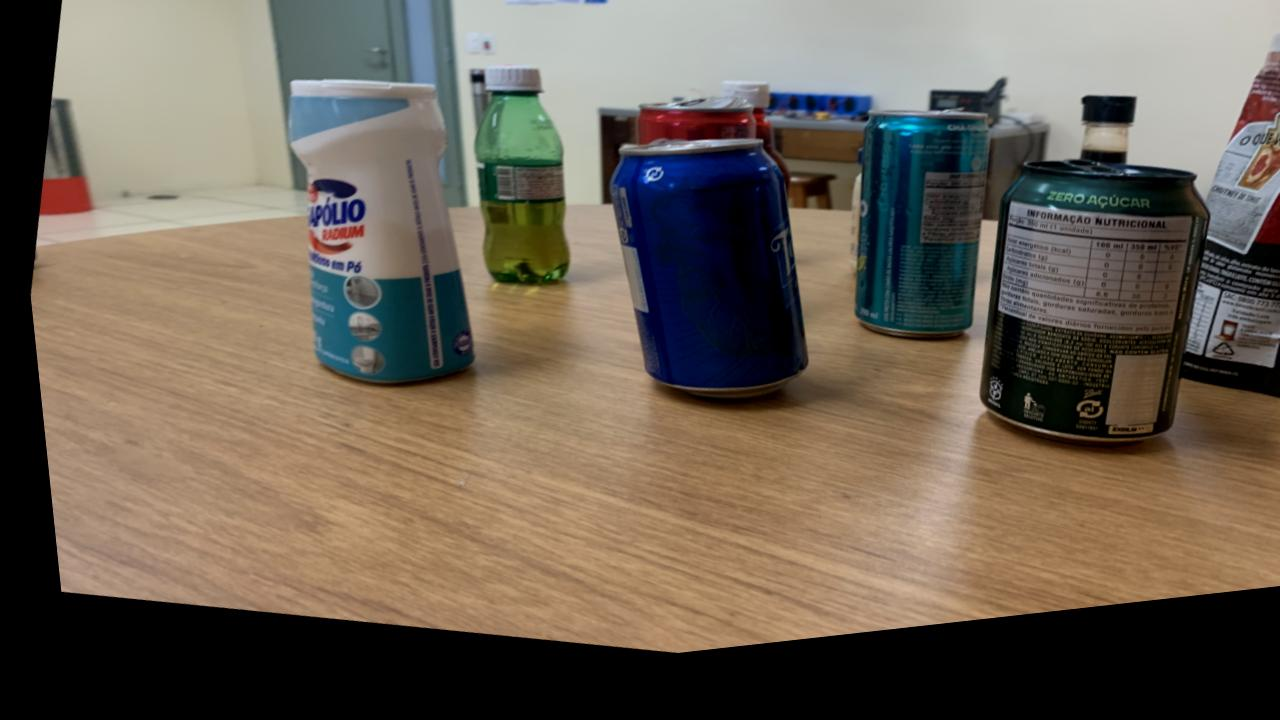Cleaner-Cleanup_Items: (285, 86, 465, 392)
Coke-Drinks: (631, 113, 751, 160)
English_Sauce-Pantry_Items: (1074, 120, 1132, 190)
Guarana-Drinks: (470, 77, 563, 296)
Guarana_Can-Drinks: (968, 185, 1201, 470), (968, 185, 1201, 469)
Ketchup-Pantry_Items: (717, 96, 785, 206)
Tea-Drinks: (845, 131, 984, 360)
Tomato_Sauce-Pantry_Items: (1170, 64, 1280, 425)
Tonic-Drinks: (605, 155, 799, 415)
